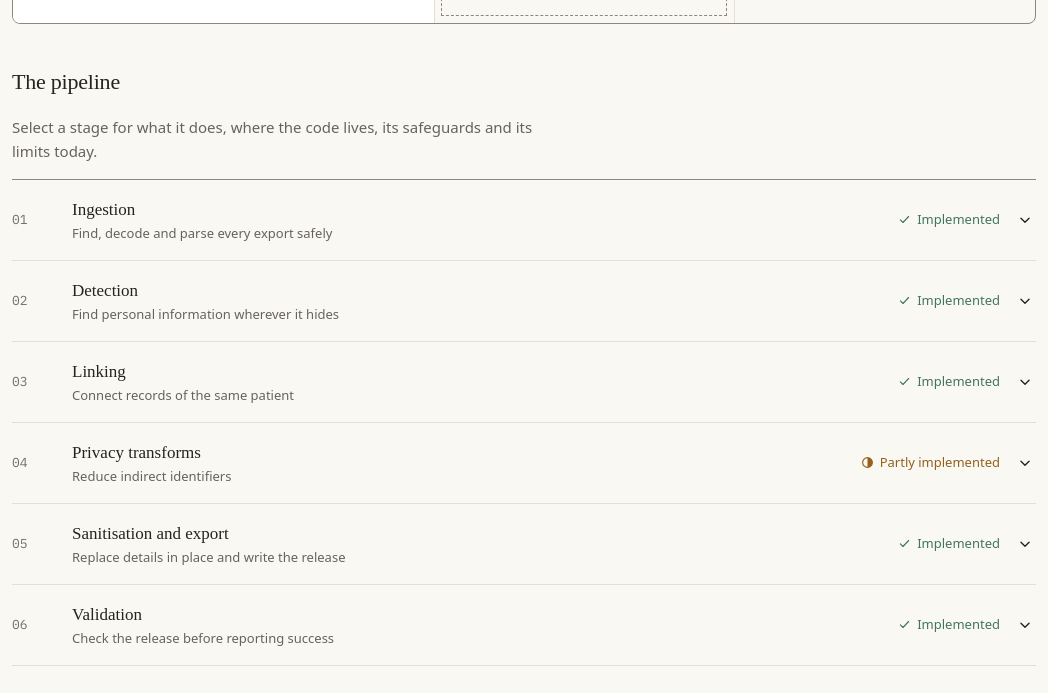
Test: Architecture › stage details start collapsed and open on demand
(page scrolled)
Click the button "03 Linking Connect records of the same patient Implemented" at (99, 371), box [12,342,1036,422]
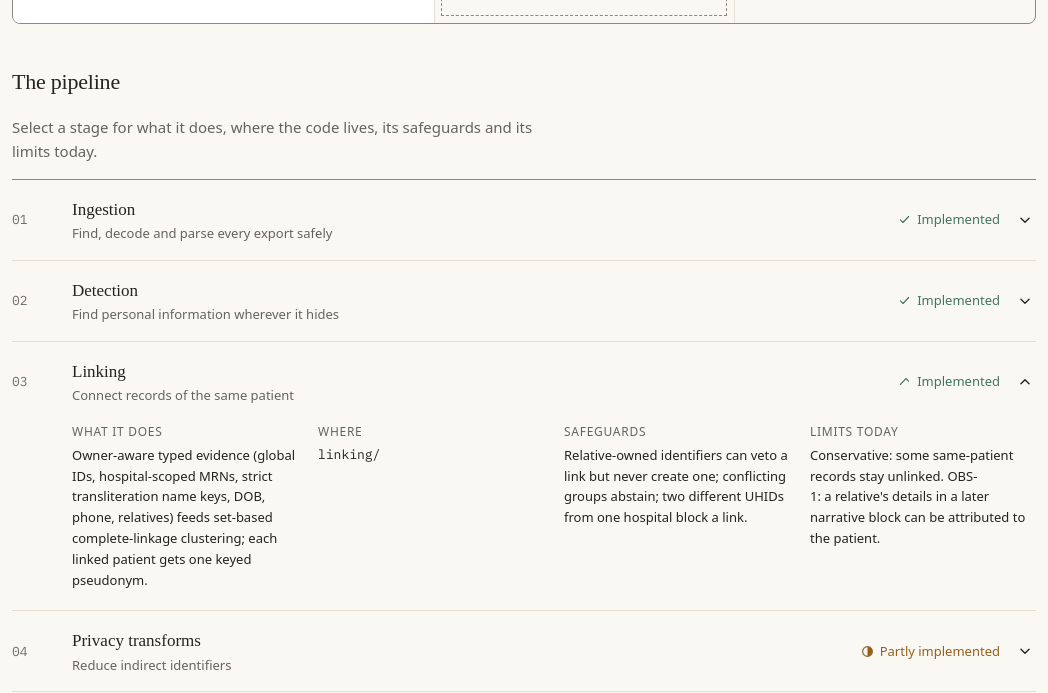
Expected: the button "03 Linking Connect records of the same patient Implemented" is expanded, [12,342,1036,422]
